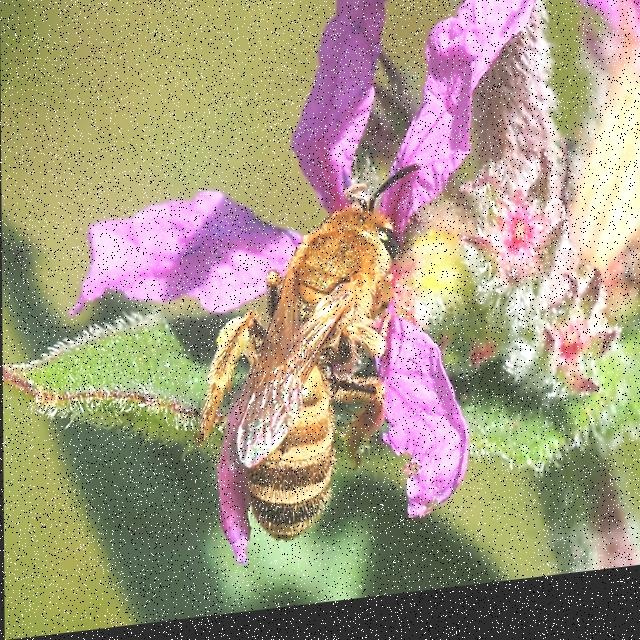Meliponula: (186, 161, 434, 580)
